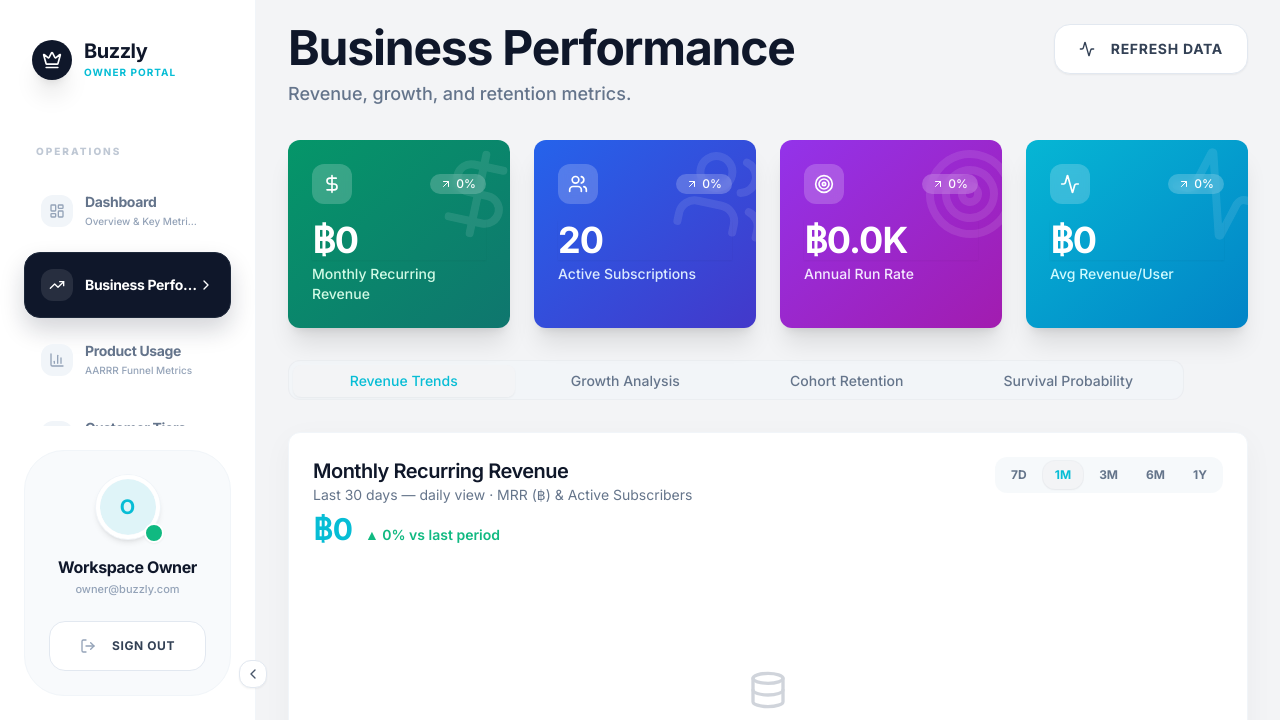
it: Owner Integration Flow › navigates between Business Performance and Product Usage
The width and height of the screenshot is (1280, 720).
Check: the heading "Business Performance" is shown, box 288,24 -> 795,72
Click the link "Product Usage AARRR Funnel Metrics".
click(117, 359)  # box 41,342 -> 192,376
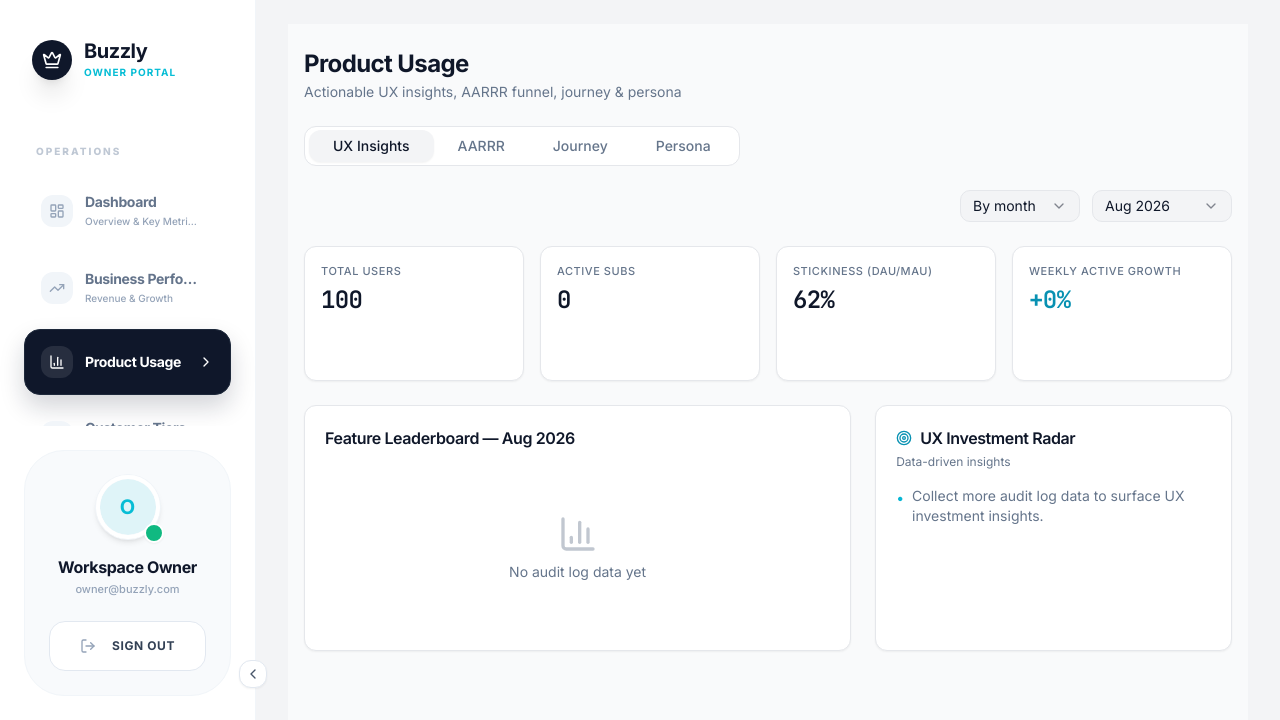
Check: the heading "Product Usage" is shown, box 304,49 -> 469,78
Check: the text "Total Users" is shown, box 321,264 -> 401,278
